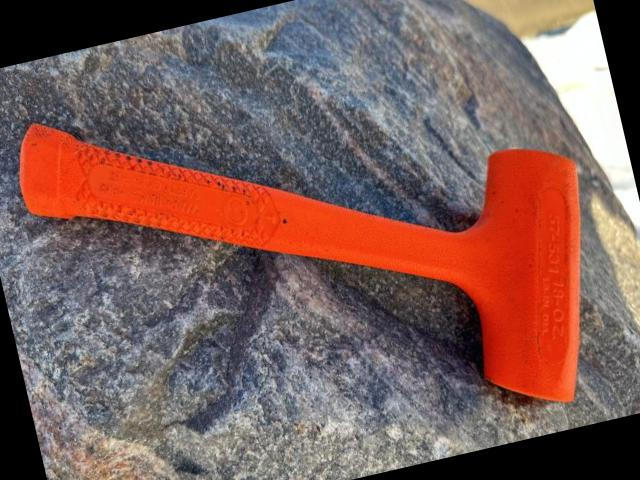hammer: (6, 7, 628, 480)
